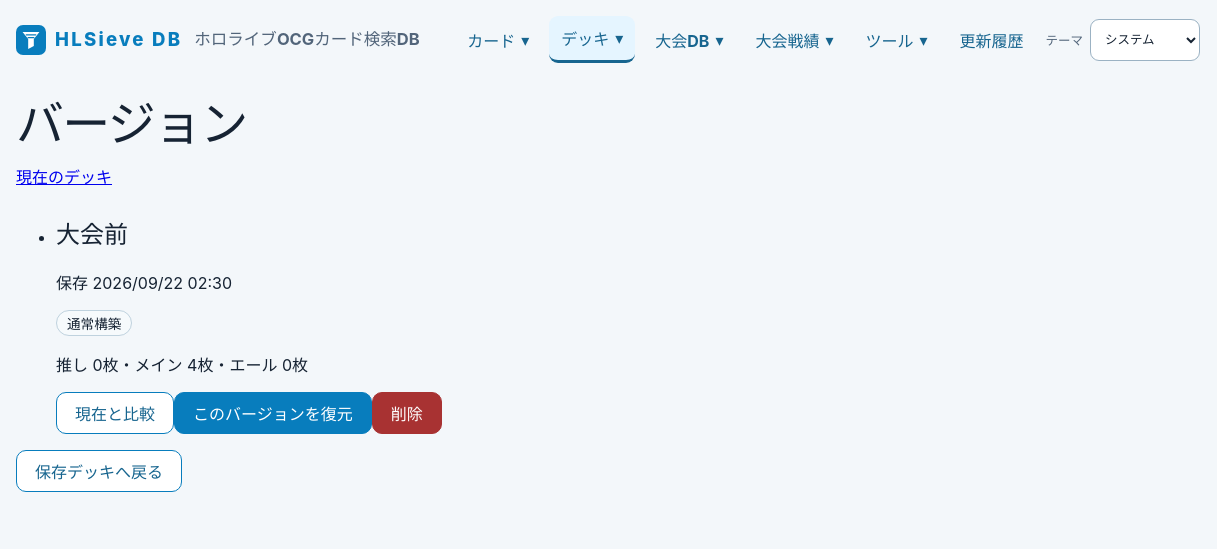
Test: comparing a snapshot with the deck now › says when nothing differs
Check: the heading "大会前" is shown, box left=56, top=220, right=128, bottom=249
Click the button "現在と比較" at (115, 412), box left=56, top=392, right=174, bottom=434
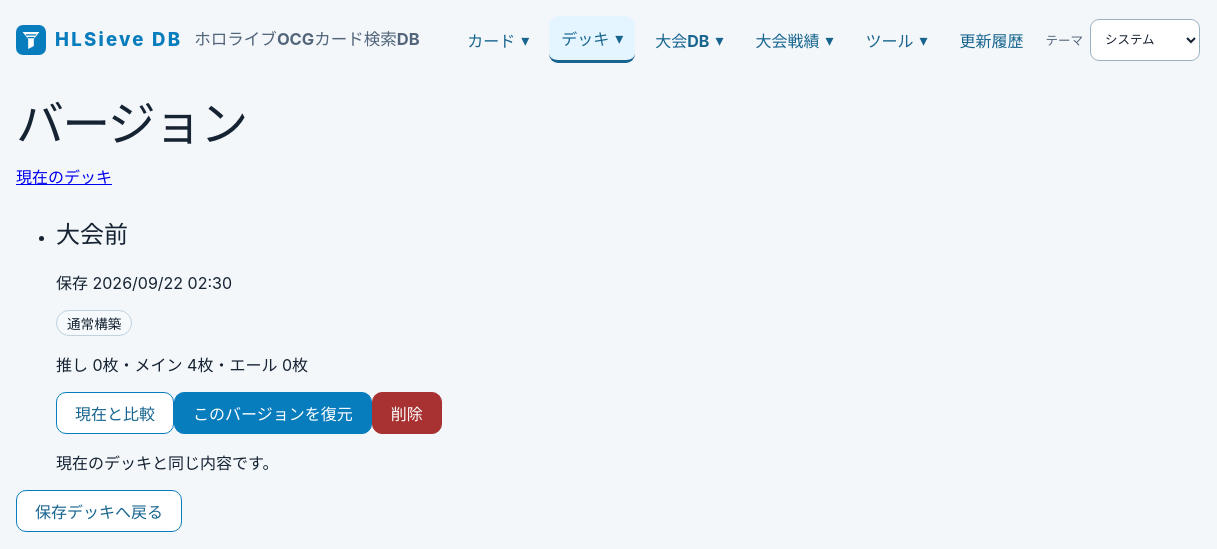
Check: the text "現在のデッキと同じ内容です。" is shown, box left=56, top=452, right=278, bottom=472
